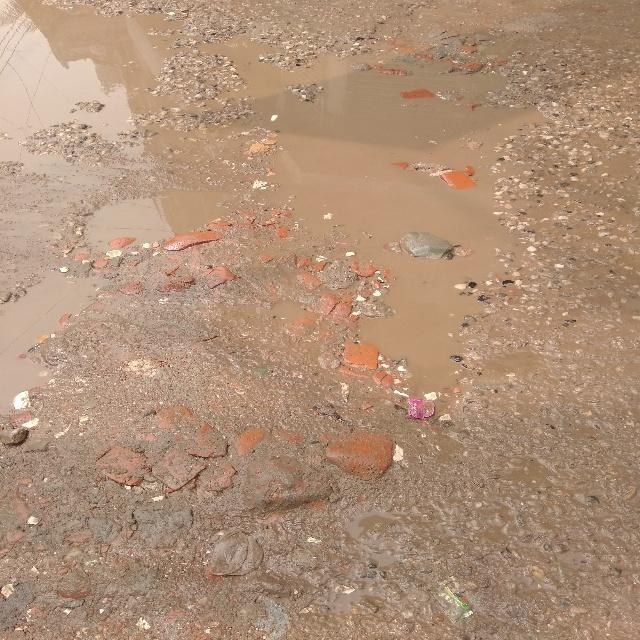Surface Erosion: (6, 0, 638, 602)
